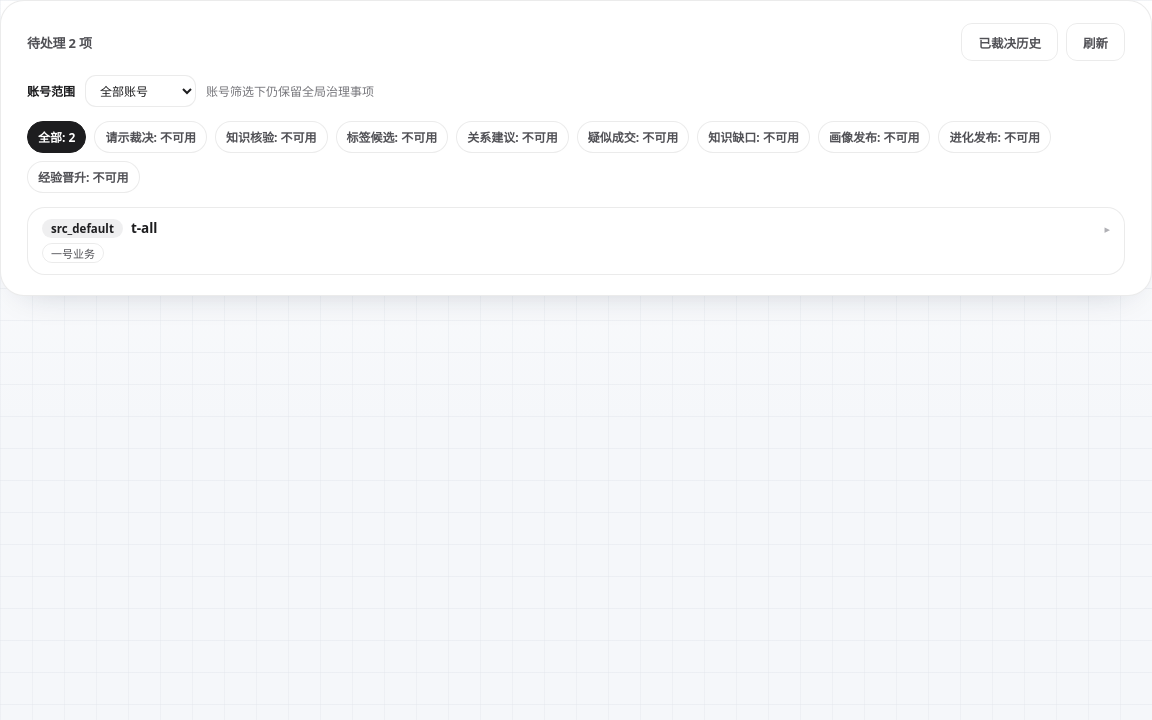
Test: AskHumanView 单数据源 › 账号筛选同时刷新列表和计数，并为账号级/全局事项显示归属
The width and height of the screenshot is (1152, 720).
Check: the text "t-all" is shown, box [131,219,158,237]
Check: the text with class "inboxAccountTag" reads "一号业务", box [51,246,95,261]
Select "二号业务" in the dropdown labelled "账号范围" at (140, 91), box [85,75,196,107]
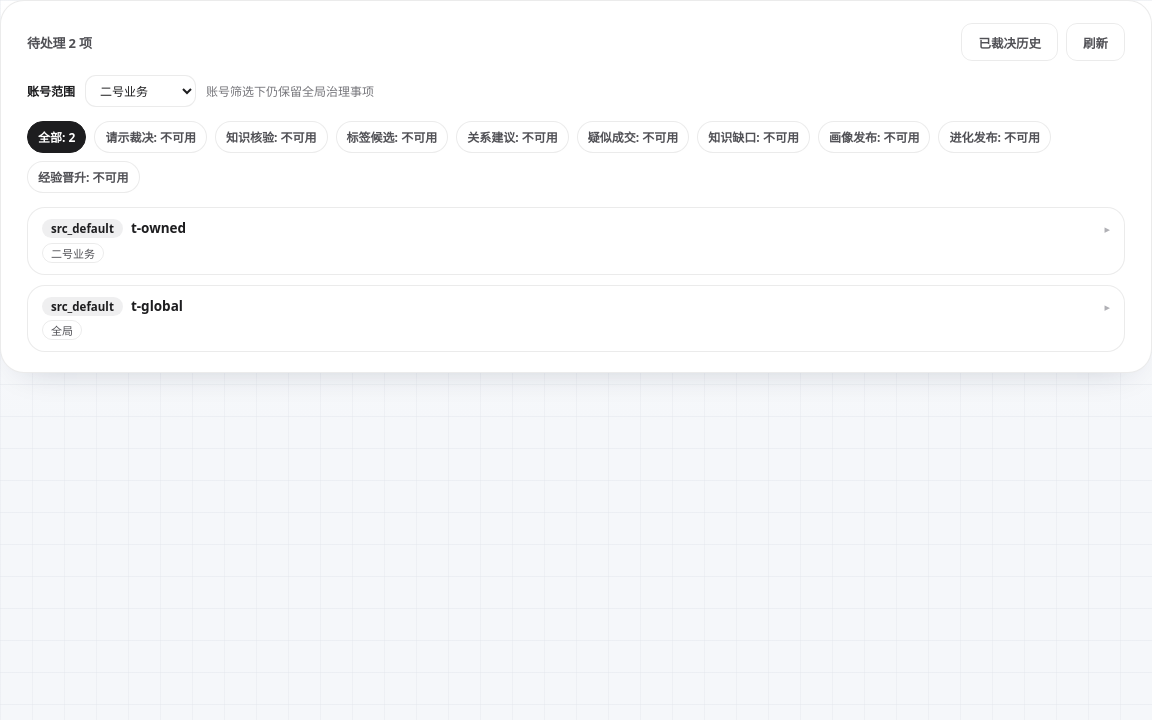
Check: the text "t-owned" is shown, box [131,219,186,237]
